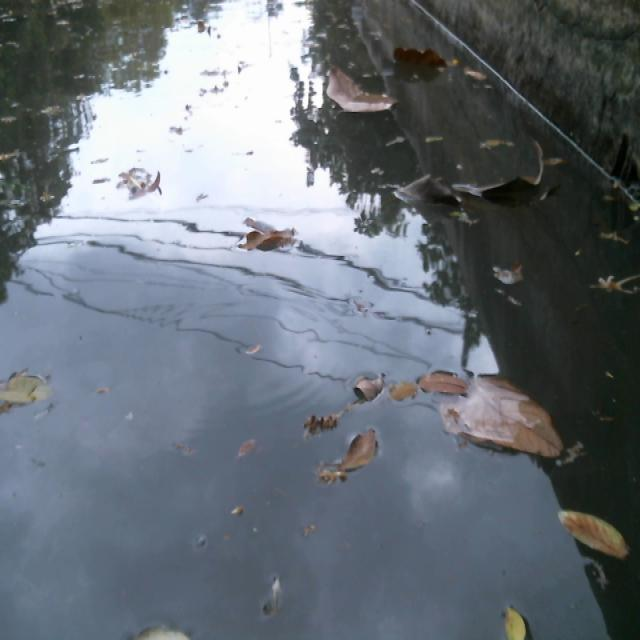Big-leaf: (449, 373, 559, 457), (452, 151, 565, 221), (323, 58, 394, 132), (387, 162, 450, 214), (393, 39, 458, 77)
Small-leaf: (554, 501, 629, 569), (0, 363, 55, 421), (238, 218, 299, 261), (335, 434, 379, 482), (499, 603, 552, 640), (595, 261, 640, 304), (118, 168, 168, 206), (257, 568, 286, 626), (298, 403, 346, 438), (423, 362, 458, 401), (131, 622, 196, 640), (392, 369, 419, 410), (493, 258, 528, 288), (462, 58, 493, 90), (358, 373, 384, 407), (602, 223, 633, 250), (234, 434, 258, 467), (242, 336, 270, 357)
